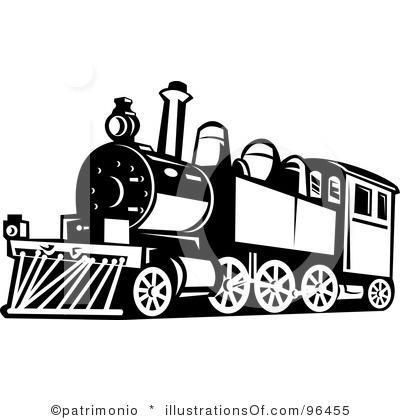train: (5, 71, 393, 329)
